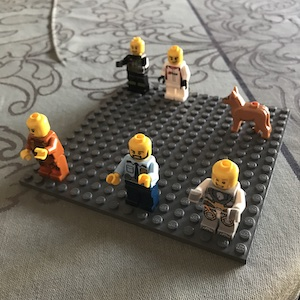Lego: (191, 159, 249, 237), (110, 133, 162, 210), (17, 111, 73, 182), (157, 44, 191, 103), (118, 36, 151, 92)
